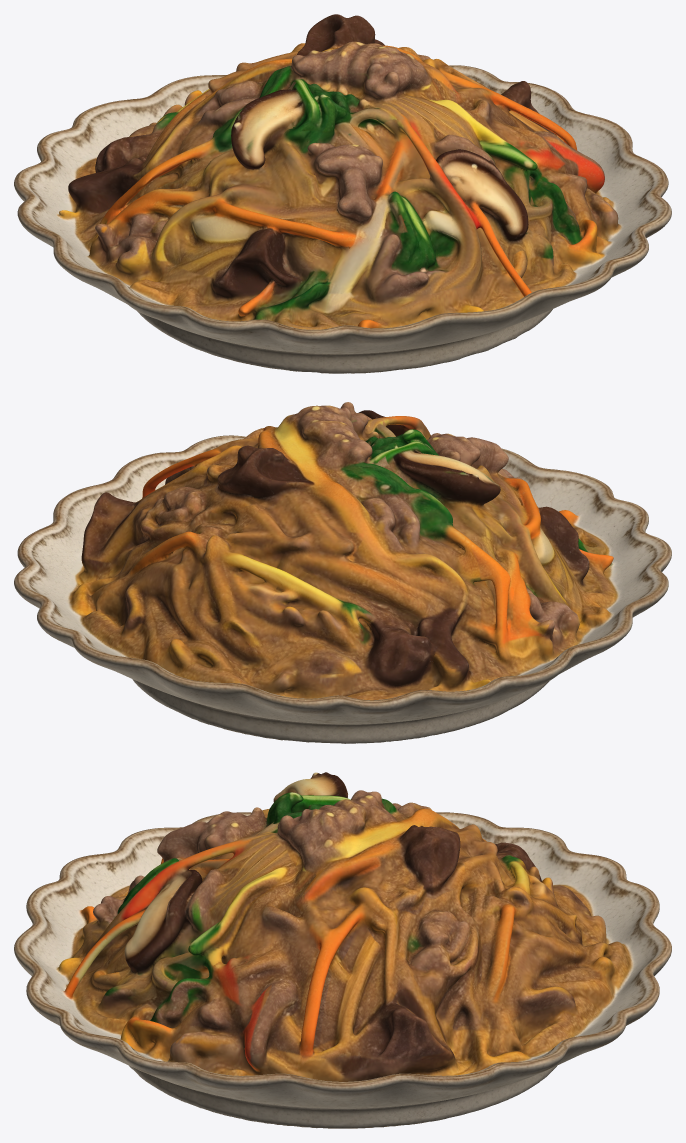
Rendered from 4b9312cb-45fc-49e7-bbf8-d65ffe0b9ff1.glb.
3 renders of one model, top to bottom at view 1: azimuth 30°, elevation 25°; view 2: azimuth 150°, elevation 25°; view 3: azimuth 270°, elevation 25°, orthographic. The views are drawn at different scales.
Bounding box in the file's own units: 1.9 × 0.7527 × 1.88.
Materials: 1 (1 with a texture image).
